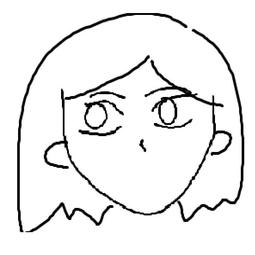ear: (37, 141, 67, 173), (209, 125, 235, 157)
eye: (77, 100, 128, 141), (149, 91, 197, 133)
eyebrow: (140, 81, 181, 98), (89, 90, 126, 99)
pointy_nose: (138, 135, 149, 156)
